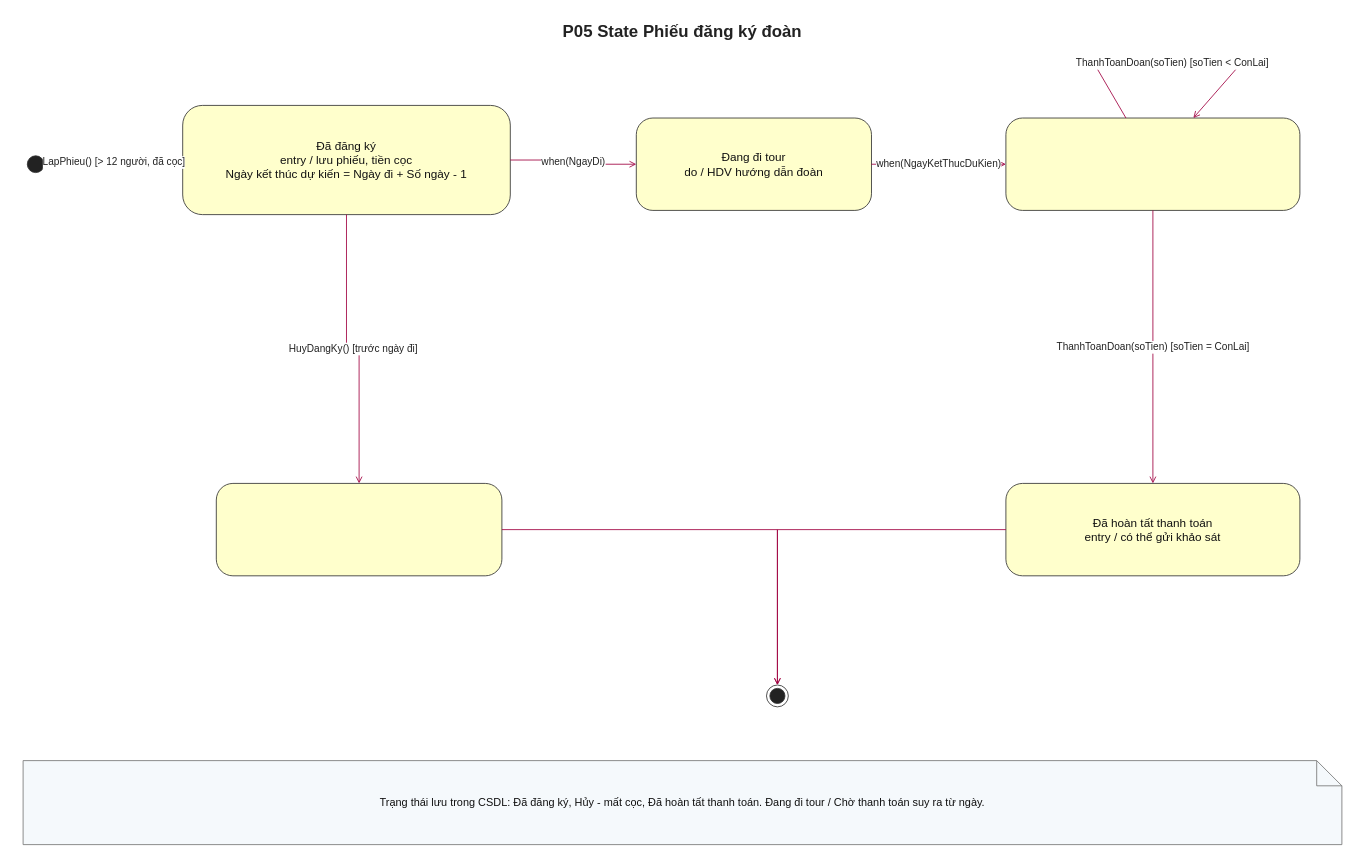
The diagram is 1364 pixels wide and 859 high, and some of its shapes have lost their labels. The centre of each missing label's shape, as x and y in pixels:
Chờ thanh toán do / Còn lại = Tổng - Cọc - Đã trả: the point at 1152,163
Hủy - mất cọc entry / gỡ phân công HDV: the point at 358,529
